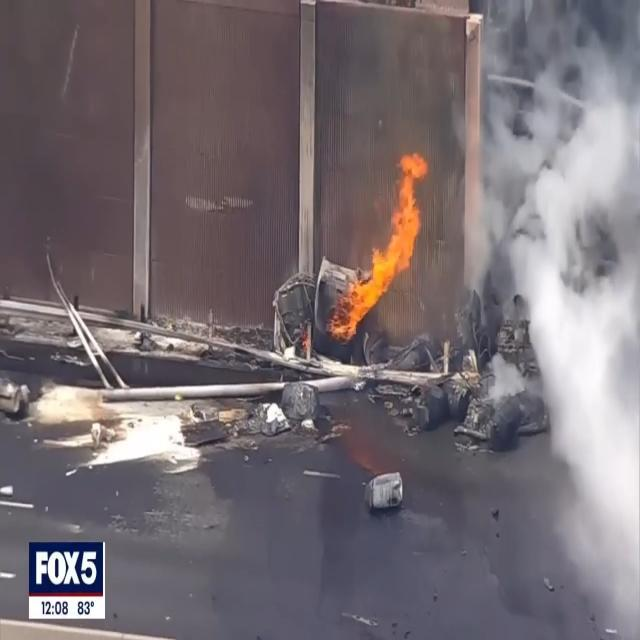fire: (330, 146, 426, 344)
